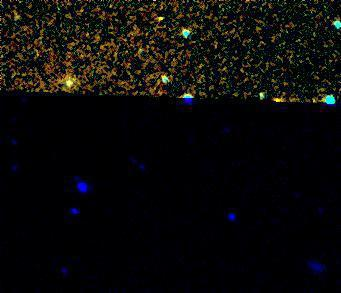star: (145, 3, 175, 33)
